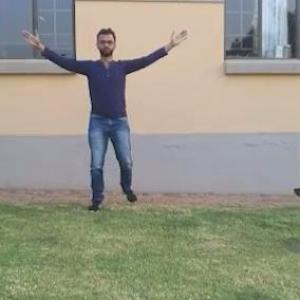takeoff: (20, 21, 190, 214)
